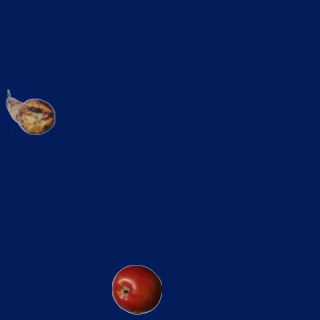Apple Braeburn: (111, 264, 161, 314)
Pear Abate: (5, 87, 55, 137)
